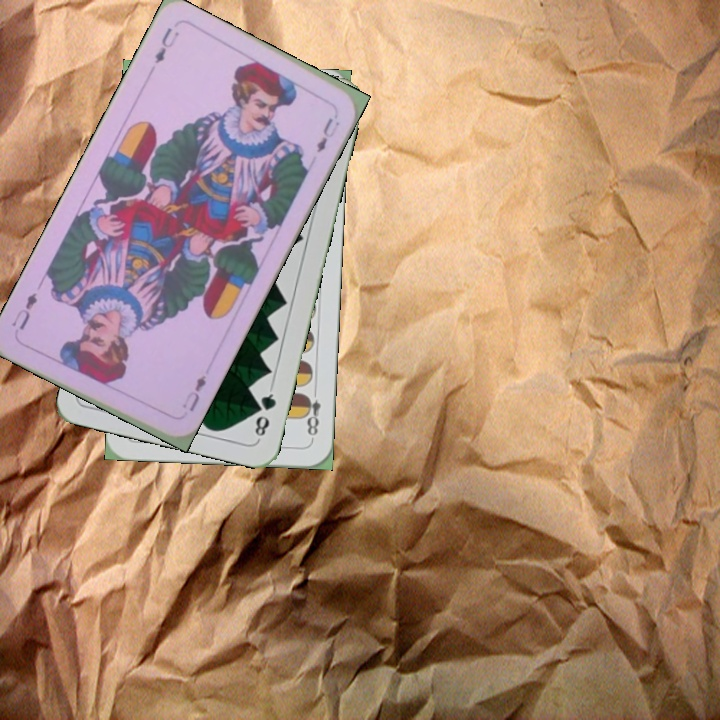E8: (299, 384, 323, 443)
EU: (150, 23, 182, 67), (178, 371, 209, 414)
G8: (250, 384, 279, 442)
